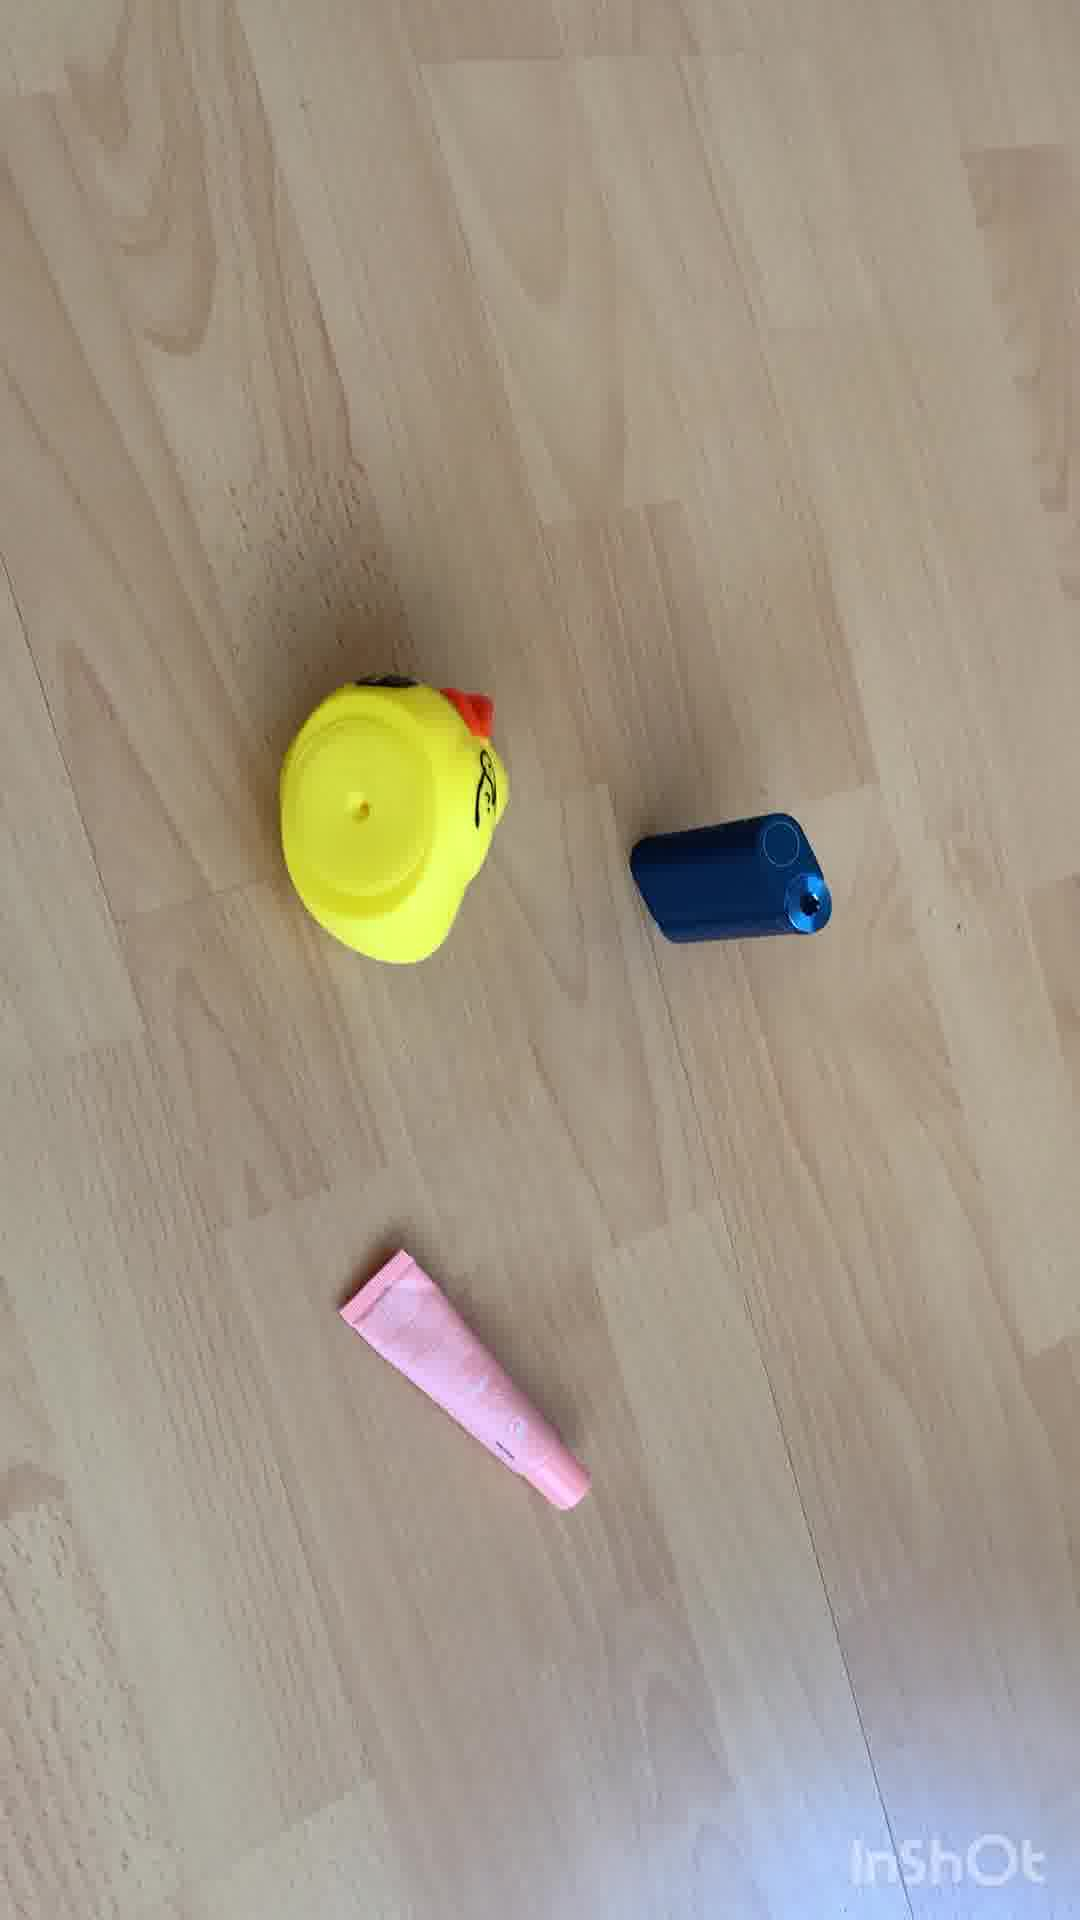duck: (277, 665, 516, 977)
glo: (632, 822, 833, 944)
lip balm: (339, 1234, 608, 1520)
